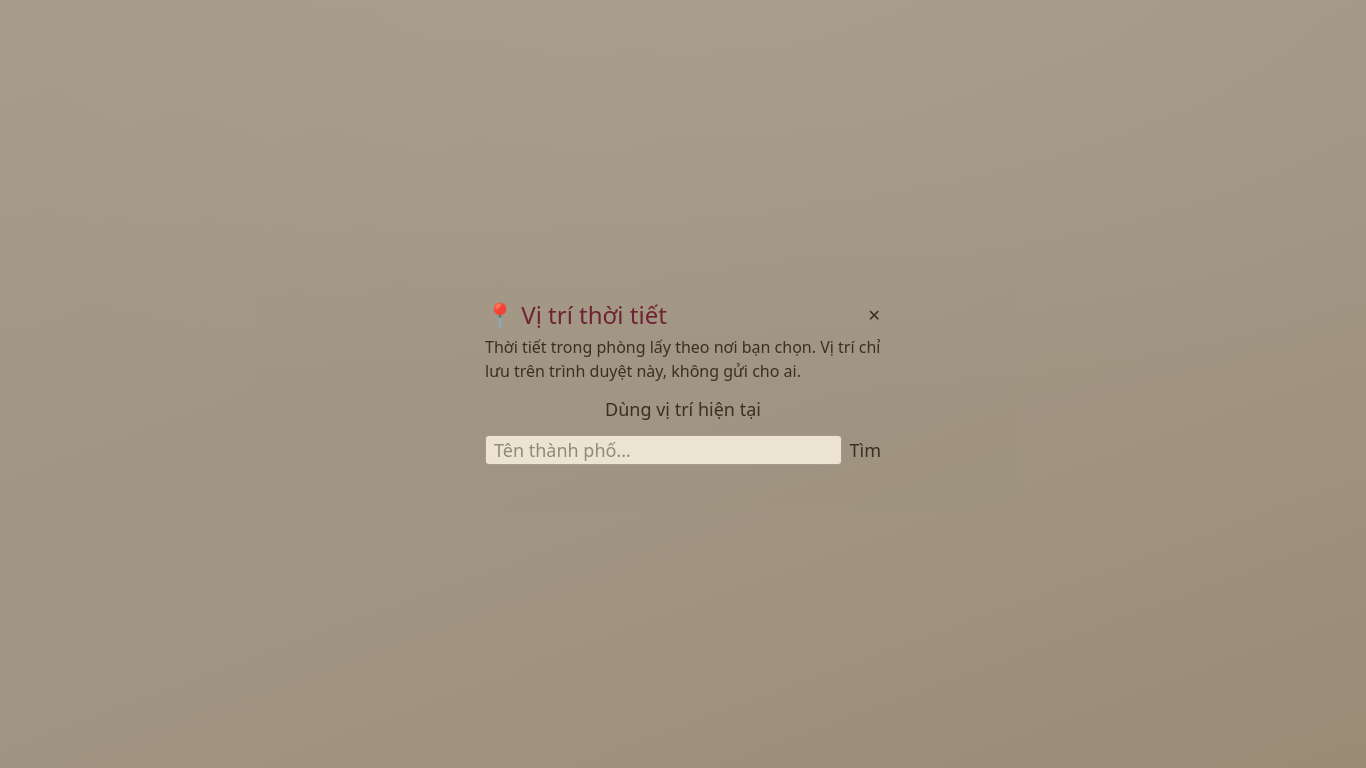
Scenario: WeatherLocationDialog › geolocation refused shows a hint
Click the button "Dùng vị trí hiện tại": (683, 409) [485,395,881,423]
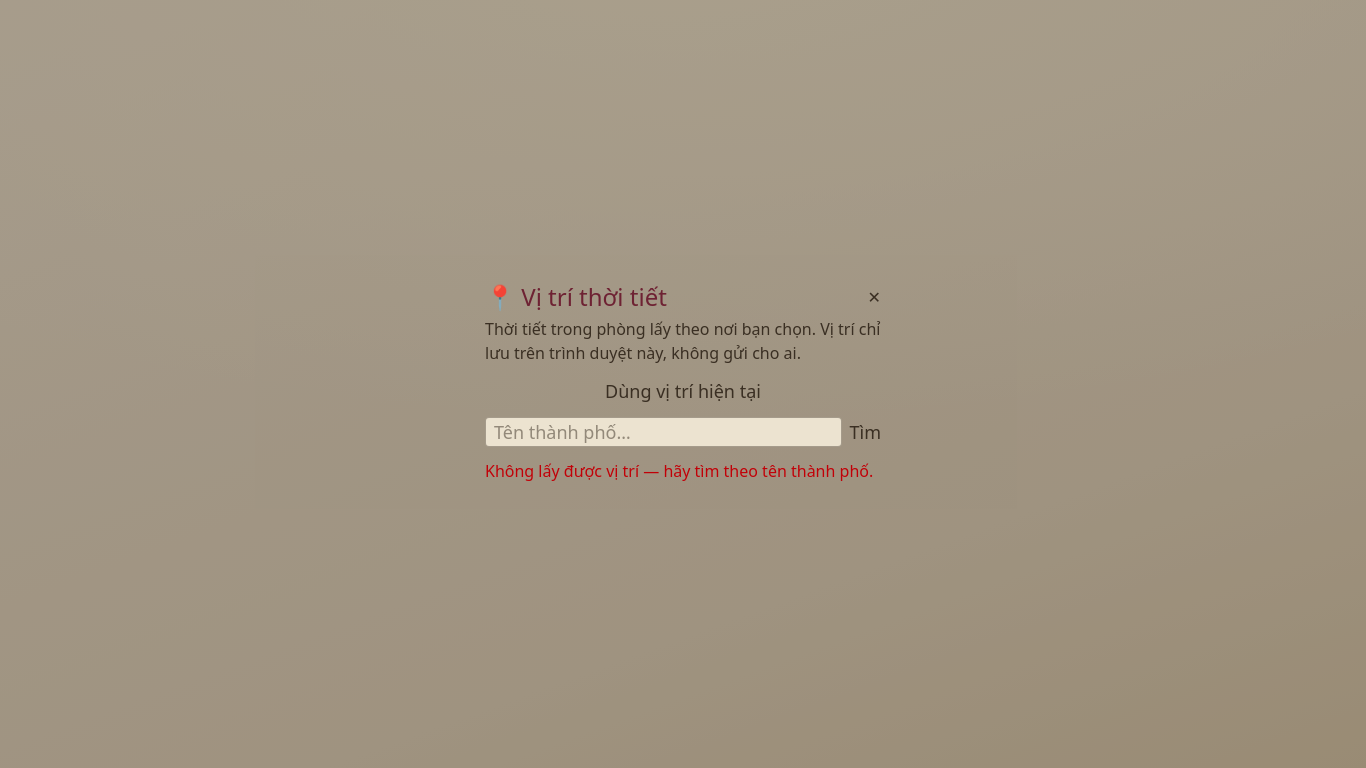
Expected: the message shows "tìm theo tên", [485,460,873,482]
